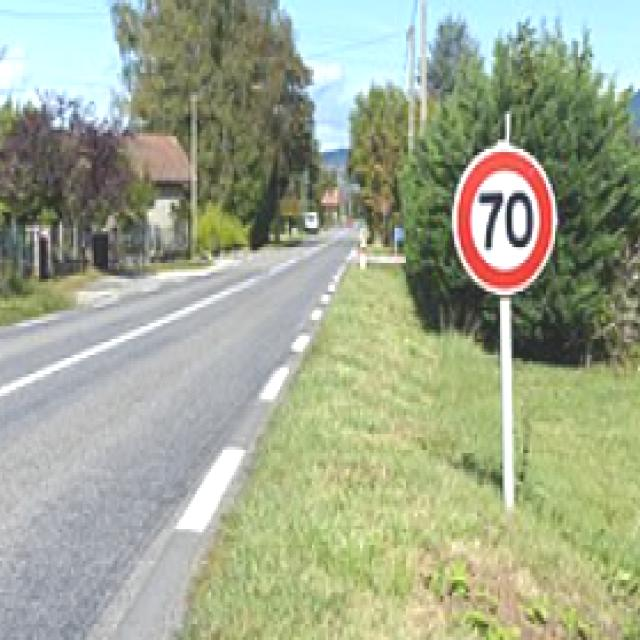speed_70: (454, 146, 559, 297)
